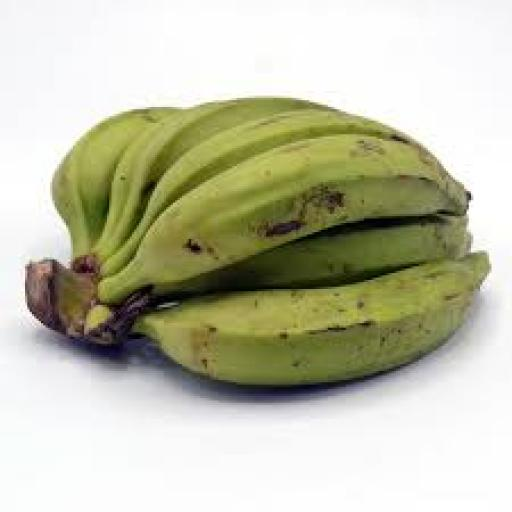banana-unripe: (8, 68, 507, 403)
